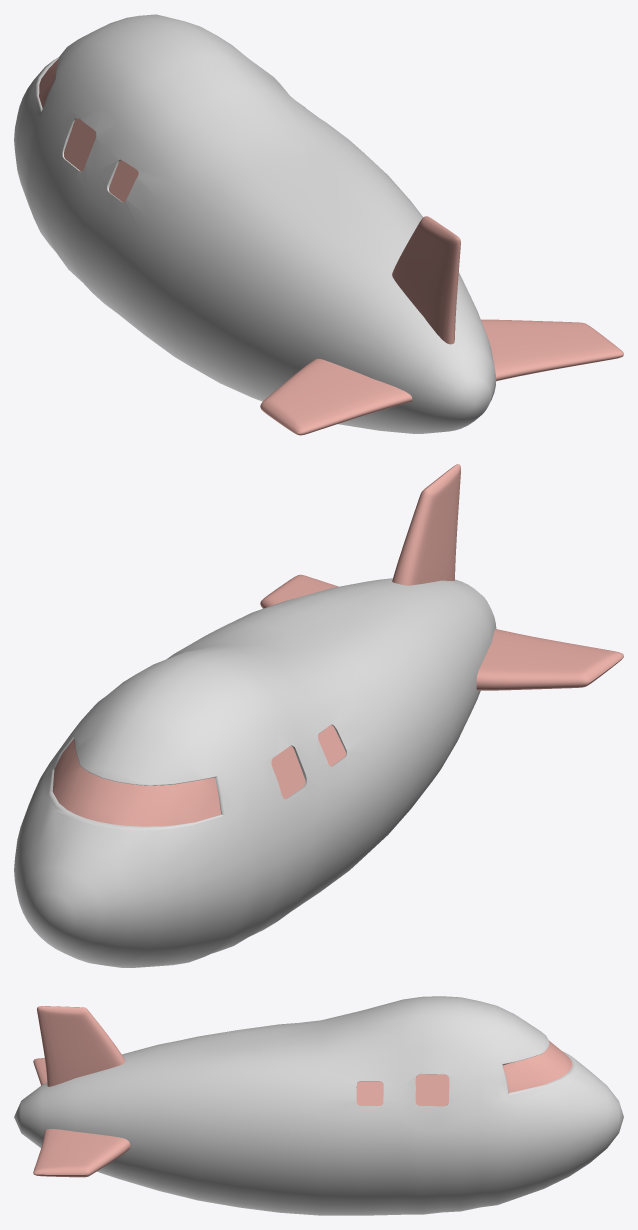
Rendered from PlaneMid.glb.
3 views of the same model, one above another, from view 1: azimuth 30°, elevation 25°; view 2: azimuth 150°, elevation 25°; view 3: azimuth 270°, elevation 25° (orthographic). The views are drawn at different scales.
Visible parts, largest first — view 1: PlaneMid; view 2: PlaneMid; view 3: PlaneMid.
Part boxes in pixels (bbox=[...]): PlaneMid: bbox=[14, 14, 623, 435]; PlaneMid: bbox=[14, 464, 623, 967]; PlaneMid: bbox=[14, 996, 623, 1215].
Bounding box in the file's own units: 0.3445 × 0.2777 × 0.7689.
